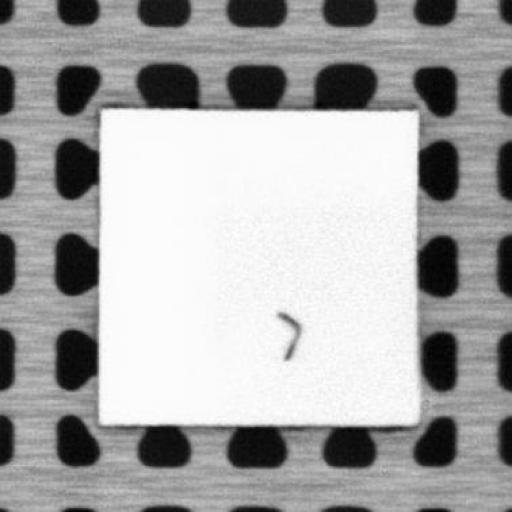DIE_INK: (275, 308, 301, 358)
